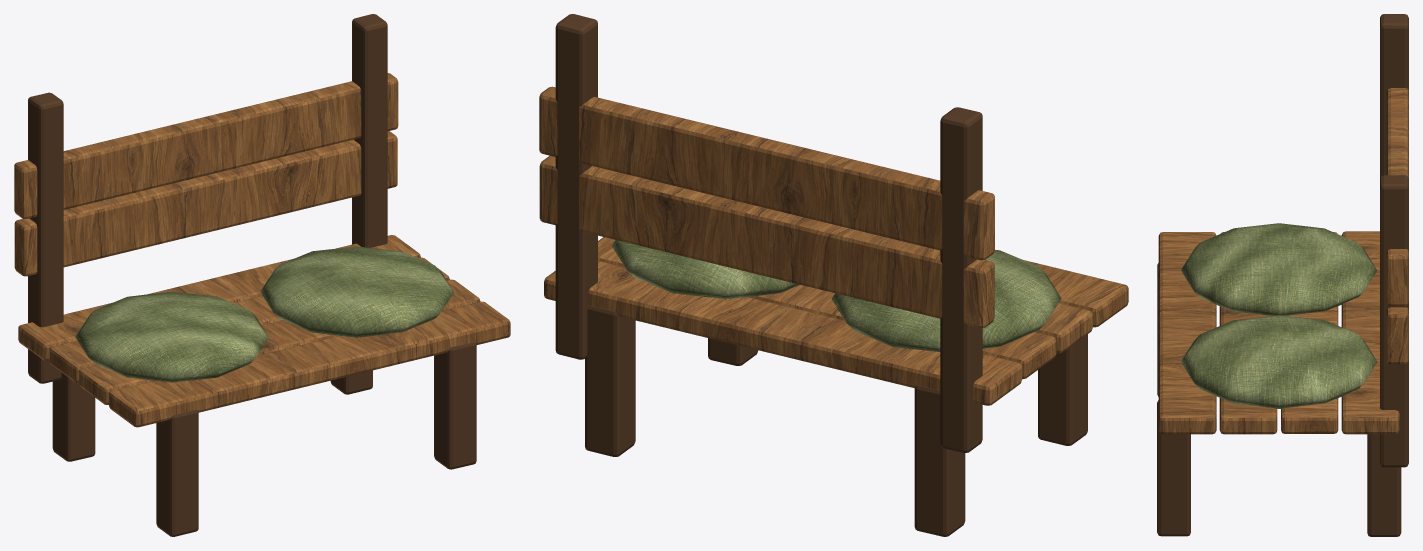
The model's file is SM_HH_Q2_Bench.fbx.
3 views of the same model, side by side, from view 1: azimuth 30°, elevation 25°; view 2: azimuth 150°, elevation 25°; view 3: azimuth 270°, elevation 25° (orthographic). The views are drawn at different scales.
Parts seen in each view (by area): view 1: HH_Q2_Bench; view 2: HH_Q2_Bench; view 3: HH_Q2_Bench.
Boxes of the visible parts, x1,y1,x2,y2 form: HH_Q2_Bench: (14,14,510,536); HH_Q2_Bench: (539,14,1128,536); HH_Q2_Bench: (1157,14,1408,536).
Bounding box in the file's own units: 0.7427 × 1.3 × 1.18.
